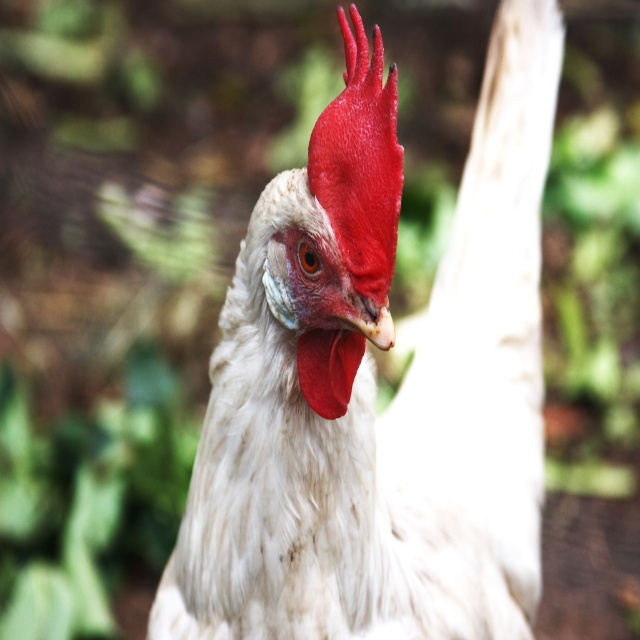Chicken: (147, 0, 566, 640)
